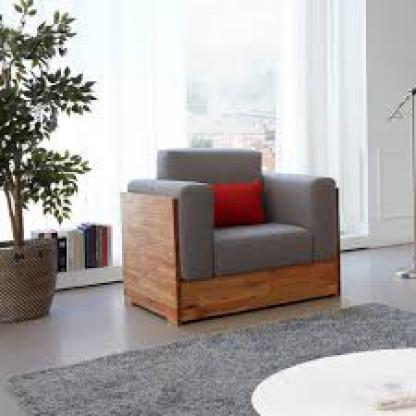sofa: (122, 142, 346, 320)
